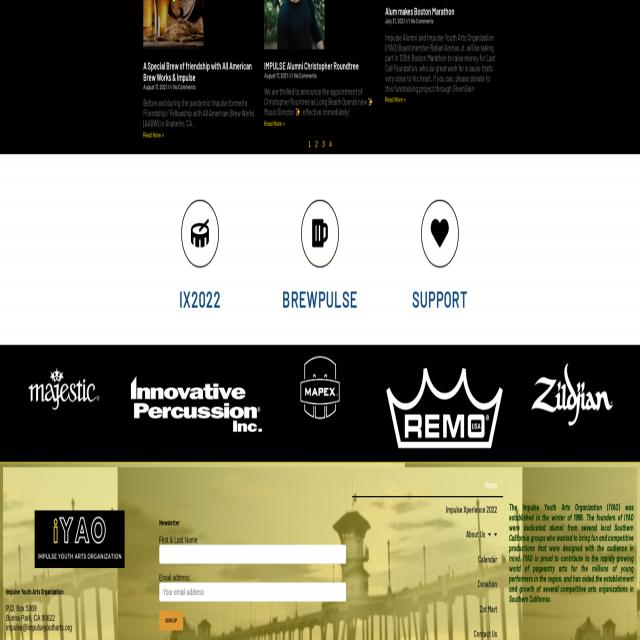button: (379, 358, 509, 467), (521, 358, 622, 437), (131, 376, 263, 432), (34, 510, 124, 568), (352, 596, 503, 622), (352, 522, 503, 547), (352, 547, 503, 572), (352, 498, 503, 522), (352, 572, 503, 596), (142, 0, 203, 51), (263, 0, 324, 51), (29, 367, 100, 410), (352, 622, 503, 640), (181, 199, 219, 268), (301, 199, 339, 268), (421, 199, 459, 268), (300, 356, 340, 420), (159, 611, 183, 629), (368, 97, 372, 106), (296, 108, 300, 116)
field: (160, 544, 346, 564), (160, 582, 346, 602)
